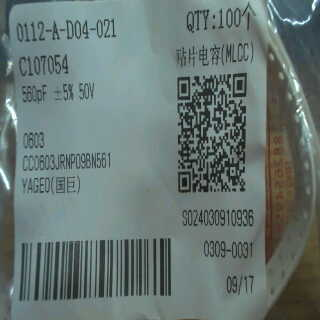560pF: (17, 83, 50, 104)
